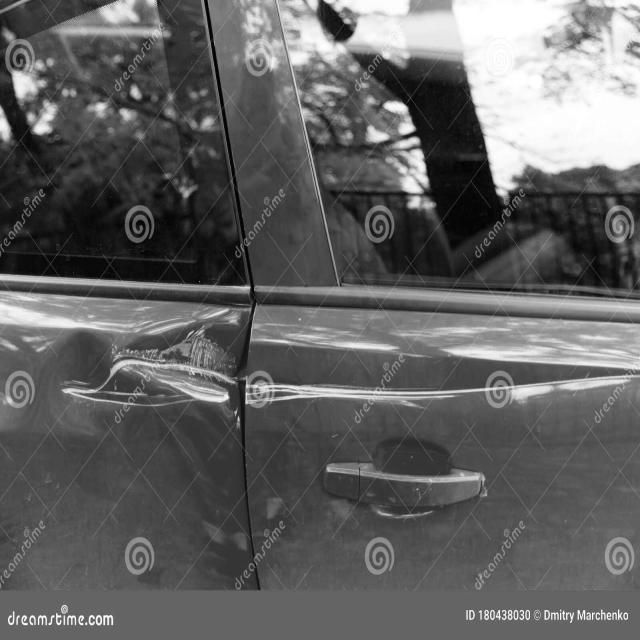dent: (42, 304, 640, 431)
misalignment: (234, 302, 257, 428)
